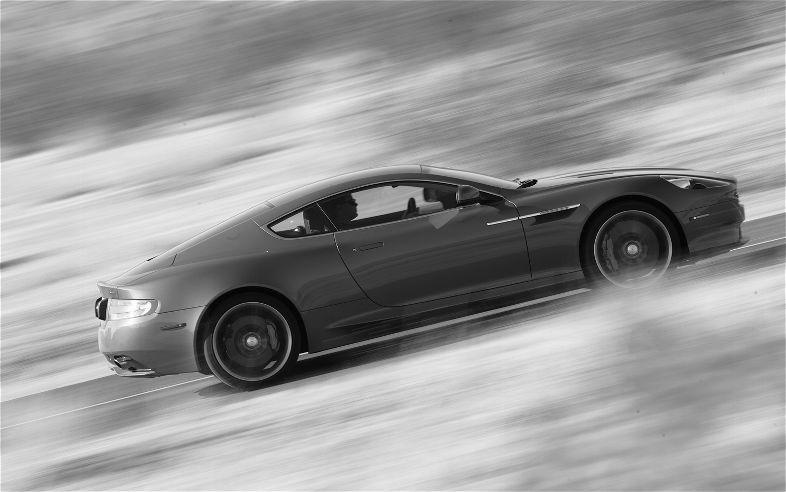car: (88, 158, 746, 395)
